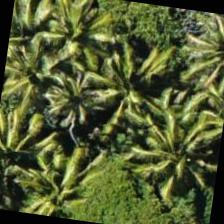Kelapa_Sawit: (74, 19, 176, 120), (15, 27, 116, 129), (129, 88, 223, 190), (0, 103, 57, 201), (6, 0, 70, 68), (182, 10, 223, 92)
